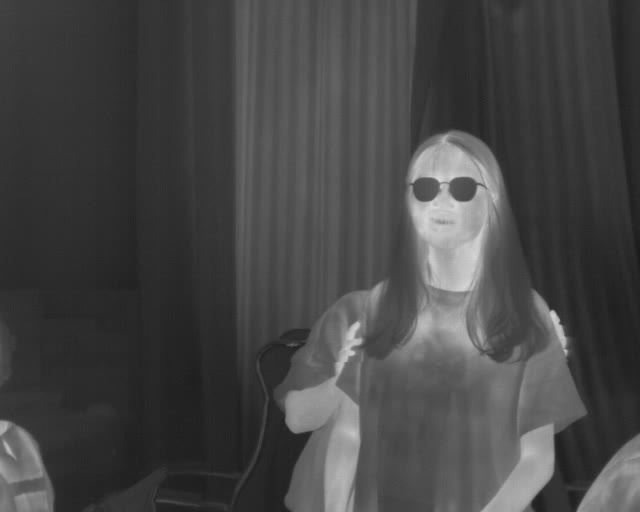face: (406, 128, 498, 255)
